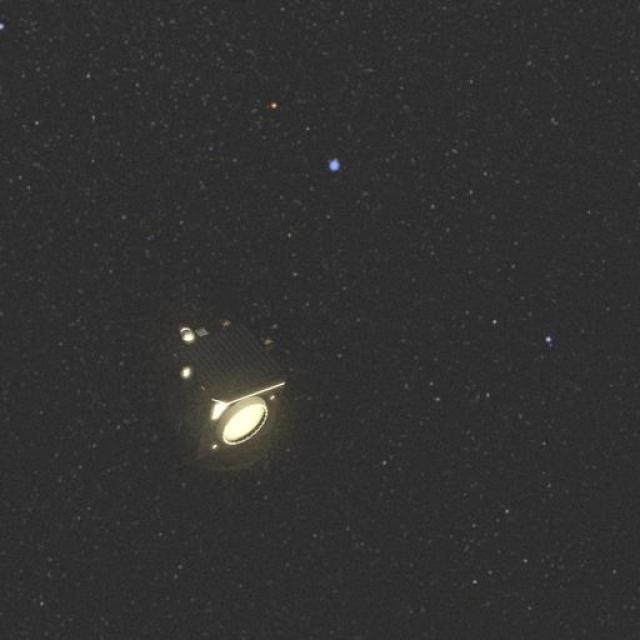proba_3_ocs: (135, 309, 292, 486)
